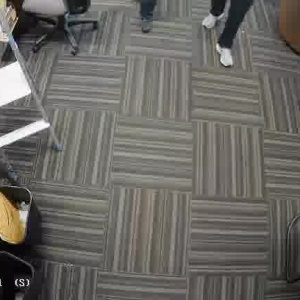person: (196, 0, 250, 71)
